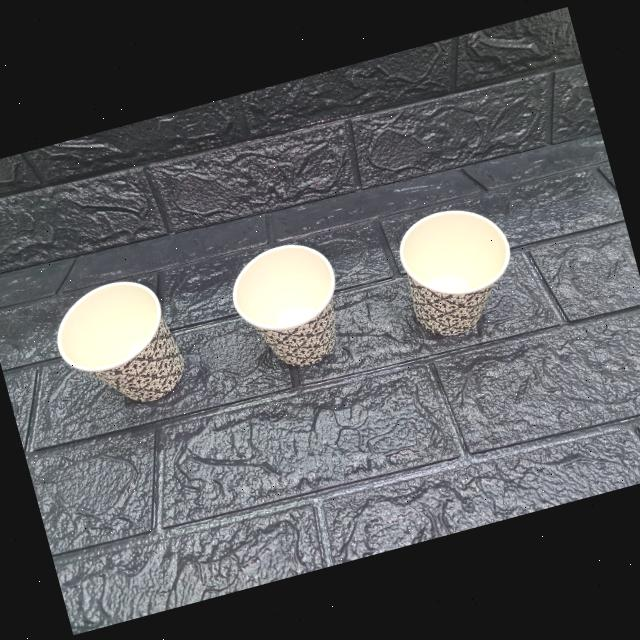trash: (48, 264, 194, 422), (386, 195, 536, 345), (224, 230, 362, 376)
